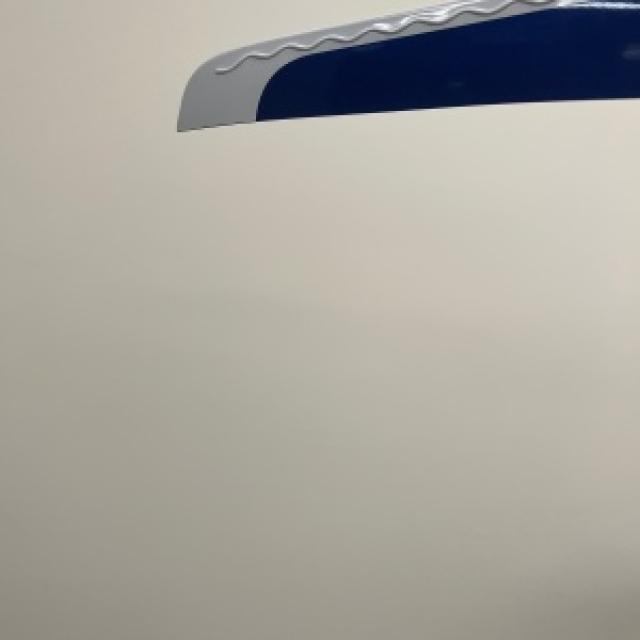healthy: (177, 0, 638, 128)
